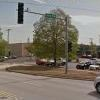Traffic light: (12, 2, 28, 36)
